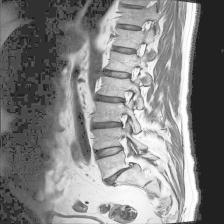disc: (90, 141, 127, 163), (108, 39, 140, 59), (112, 19, 151, 34), (103, 66, 135, 82), (117, 1, 148, 14)
hdisc: (101, 163, 143, 189), (91, 88, 131, 108), (89, 116, 124, 135)
